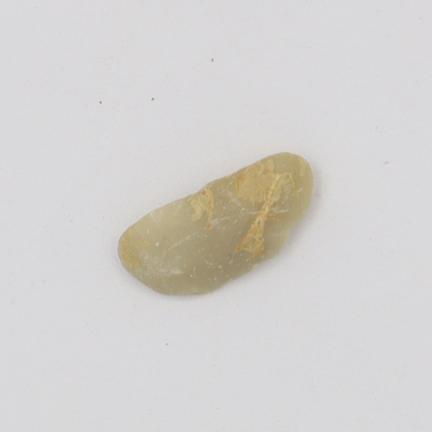shell: (118, 153, 313, 294)
